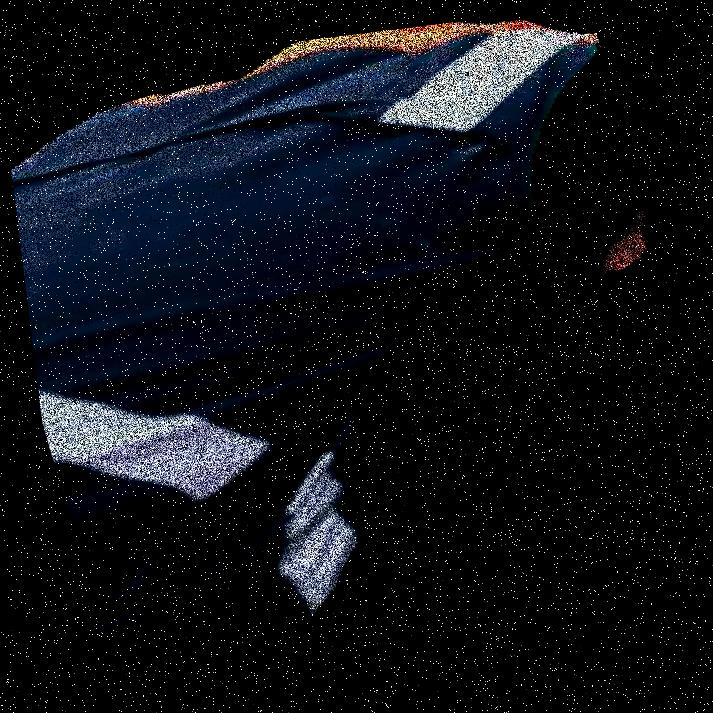Colete: (81, 0, 308, 712)
